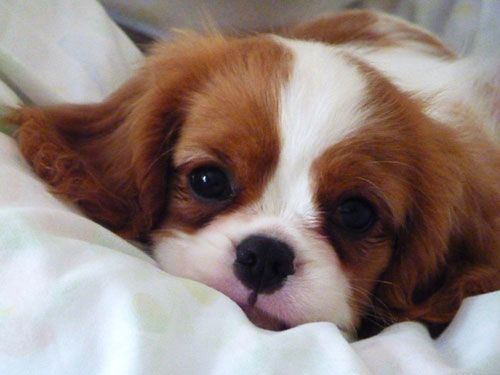dog: (10, 13, 500, 339)
